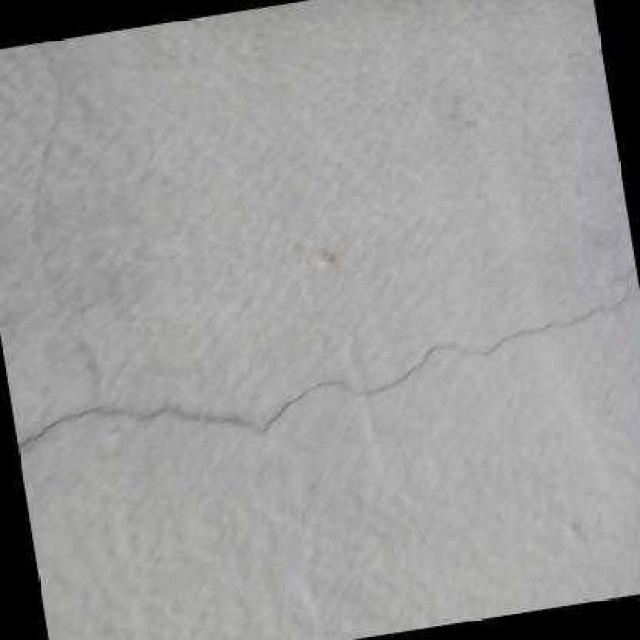D00: (14, 266, 636, 459)
